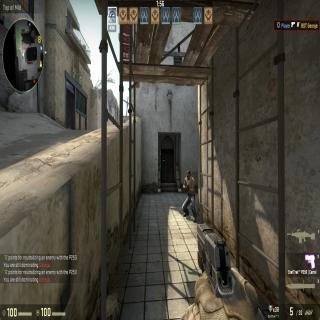T-Body: (182, 169, 197, 220)
T-Head: (186, 170, 191, 181)
